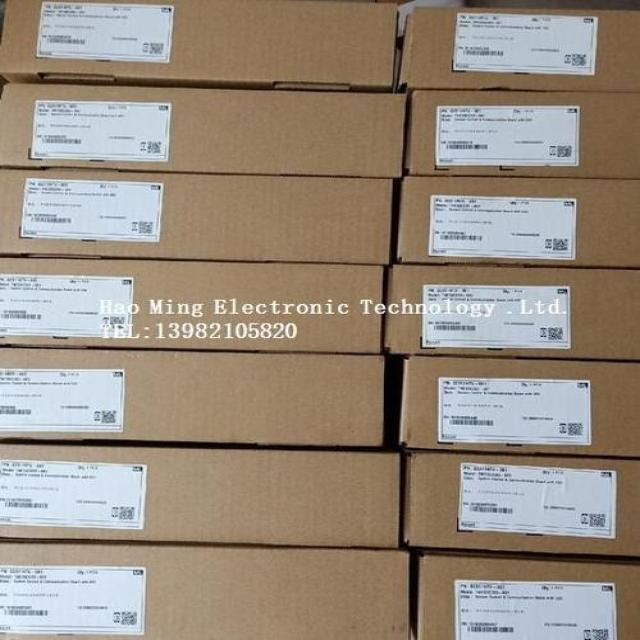box: (0, 443, 403, 549), (0, 344, 381, 448), (0, 543, 411, 638), (0, 83, 406, 177), (0, 170, 394, 265), (0, 257, 385, 352), (0, 1, 398, 91), (401, 450, 639, 559), (397, 358, 639, 458), (381, 268, 639, 361), (395, 178, 639, 269), (406, 89, 639, 178), (400, 7, 639, 90), (417, 552, 639, 638)
